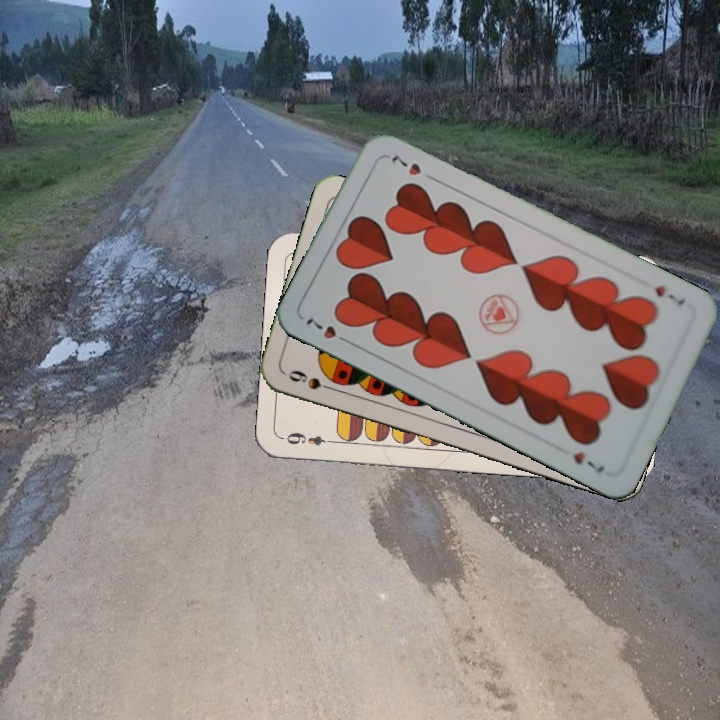E9: (279, 428, 339, 448)
H7: (301, 310, 354, 347), (651, 281, 688, 310)
S9: (284, 366, 340, 394)
